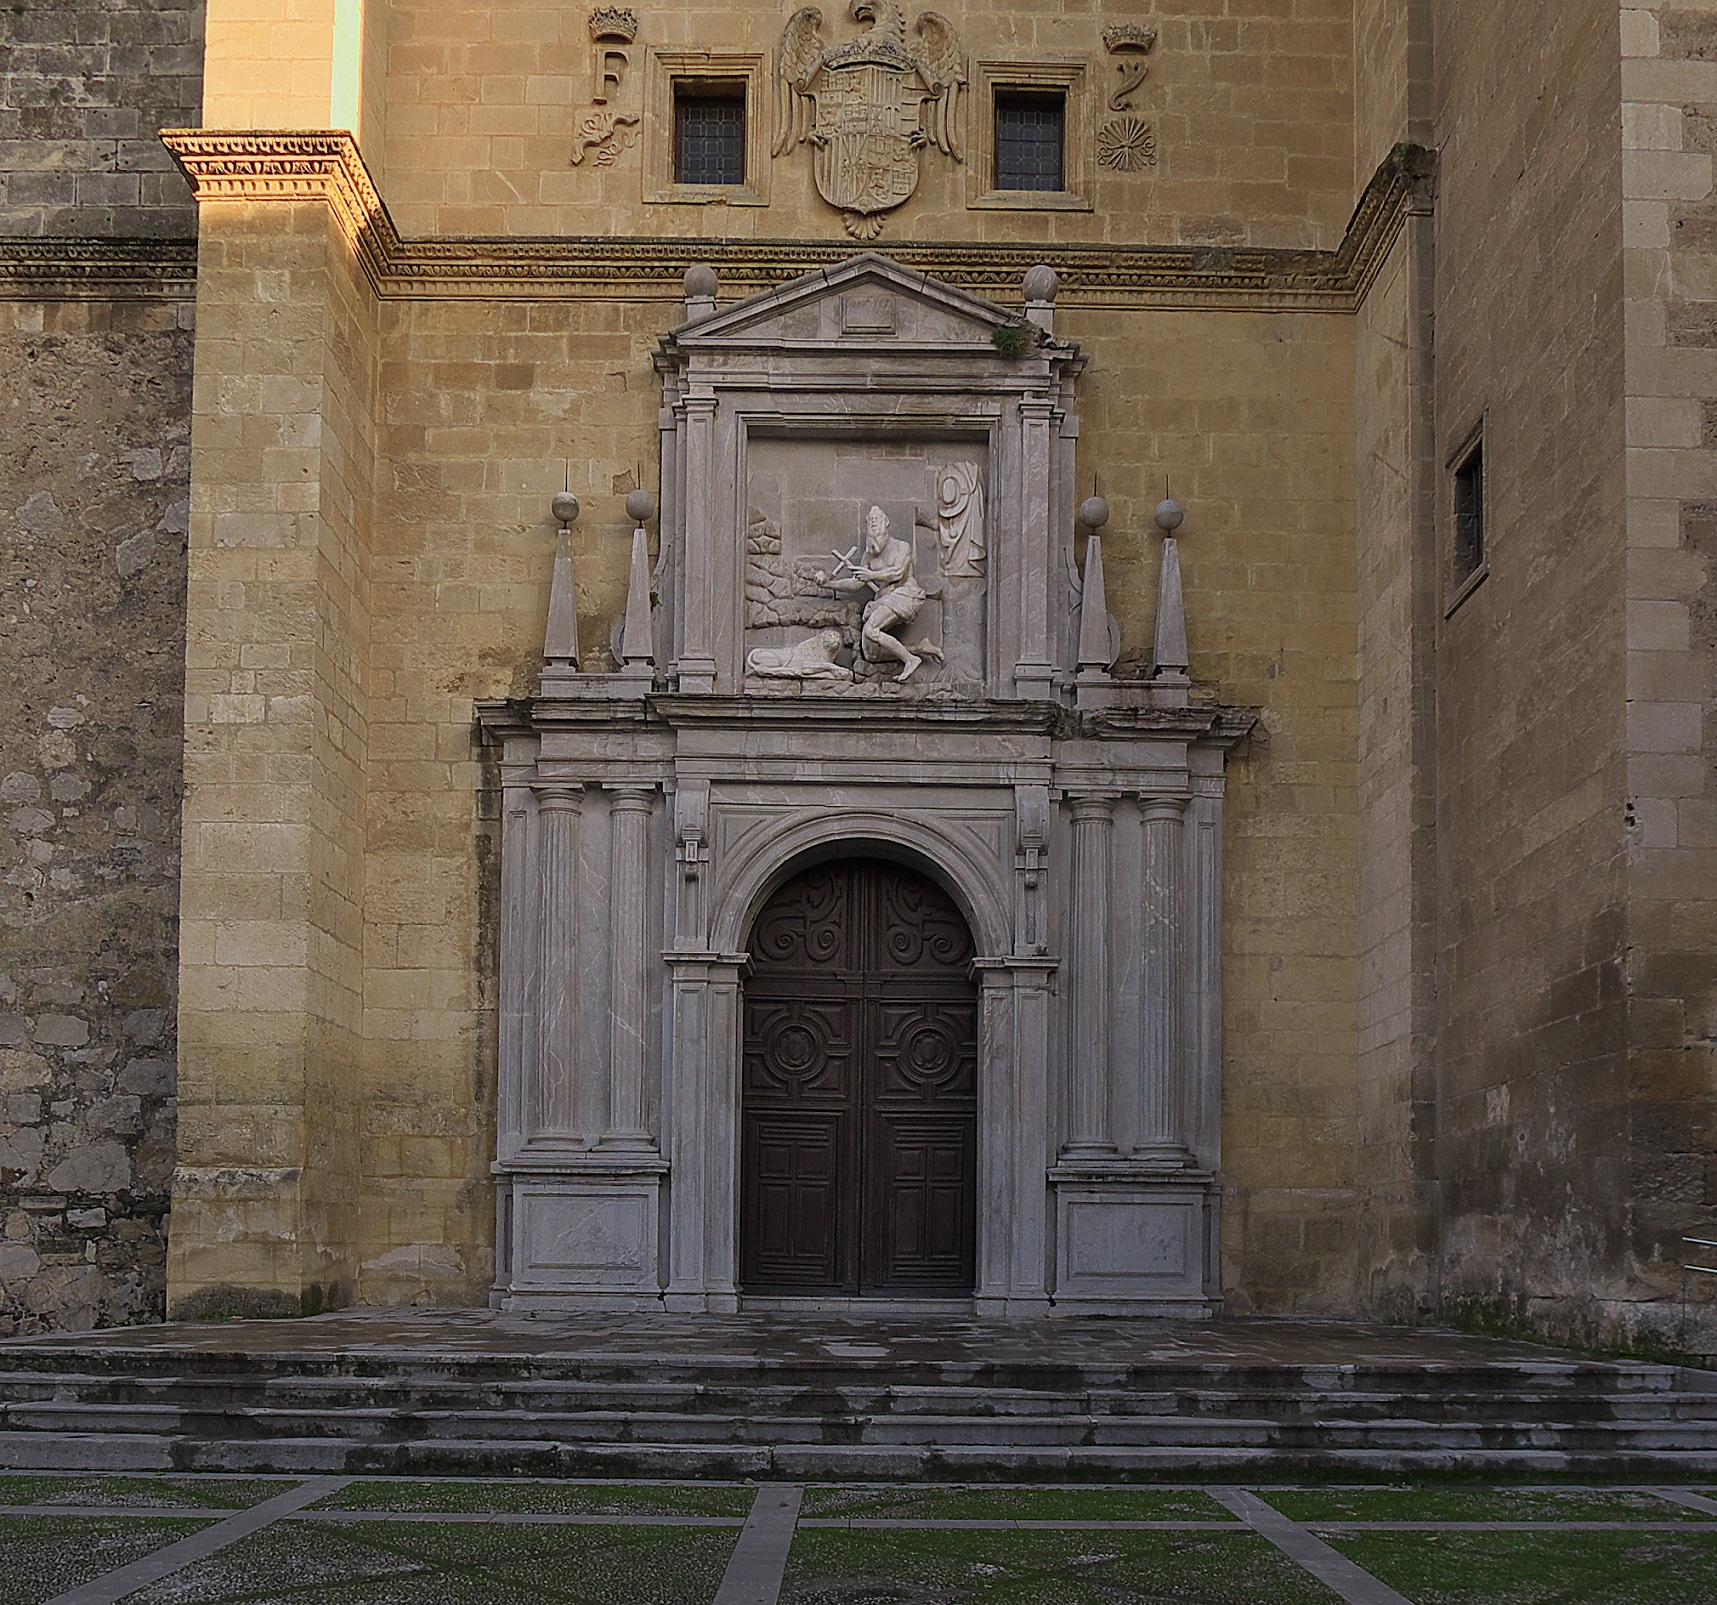arco-medio-punto: (717, 813, 997, 1008)
fronton: (662, 240, 1061, 364)
vano-adintelado: (720, 397, 1000, 710)
